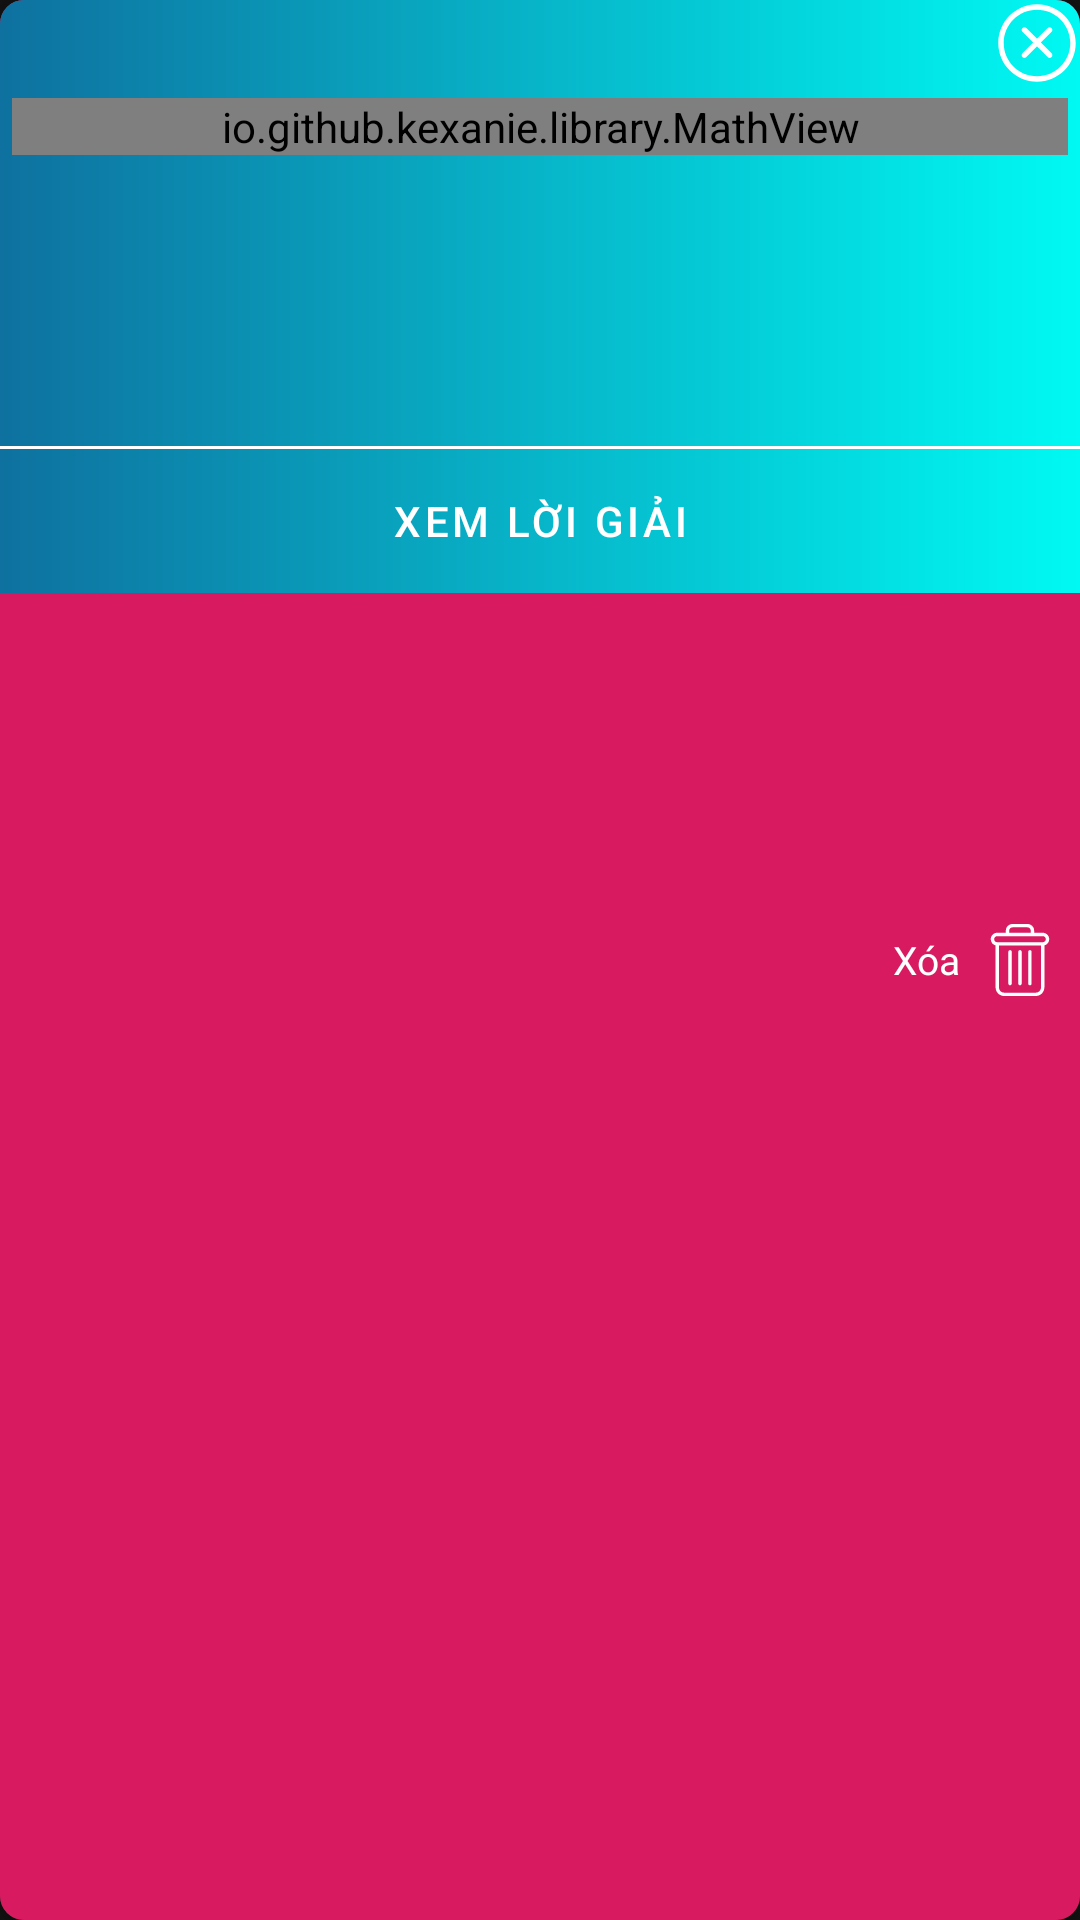

Named icons in this screenshot (1080x1920) and their centers, point (x, y):
cancel: point (1039, 41)
delete: point (1020, 960)
